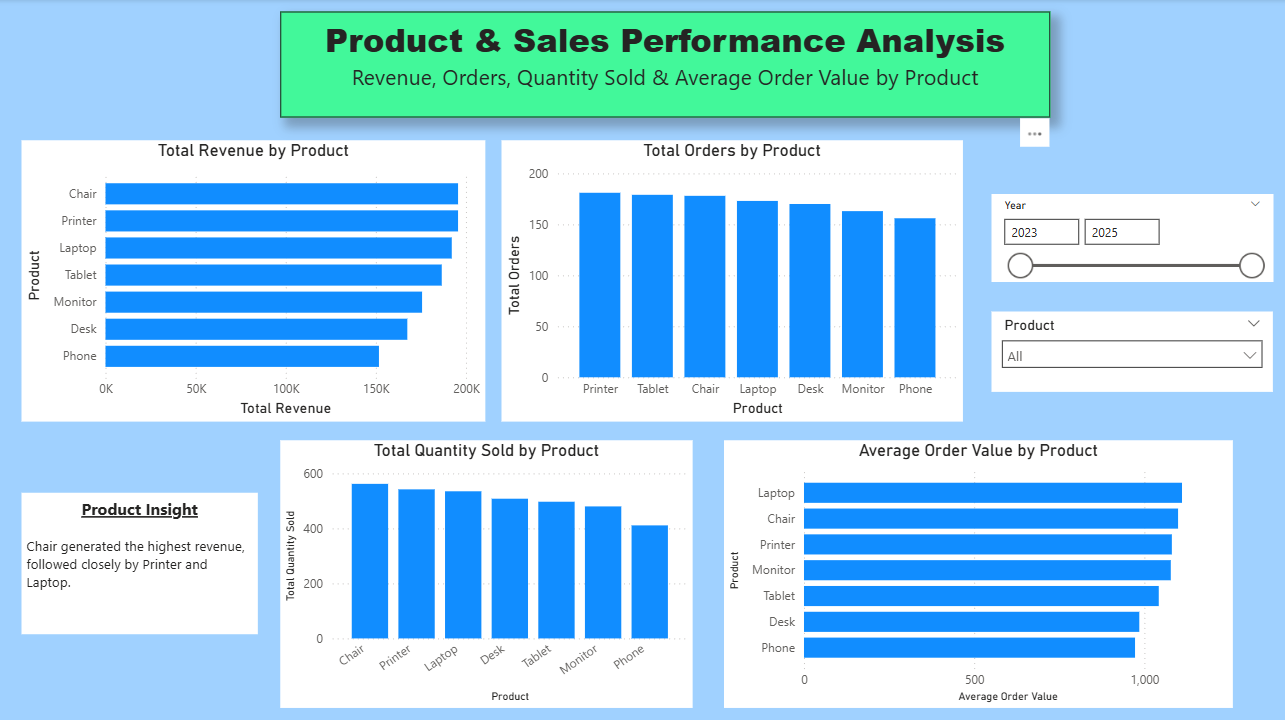

This screenshot's page, from the dashboard's own definition file:
{"tool":"powerbi","page":{"name":"Product  & Sales Analysis","canvas":[1280,720],"ordinal":1},"visuals":[{"type":"clusteredBarChart","fields":{"Category":["Orders.Product"],"Y":["Orders.Total Revenue"]},"box":[22.4,140.6,461.5,279.9],"z":0},{"type":"clusteredColumnChart","fields":{"Category":["Orders.Product"],"Y":["Orders.Total Orders"]},"box":[500.1,140.6,459,279.9],"z":1000},{"type":"clusteredBarChart","fields":{"Category":["Orders.Product"],"Y":["Orders.Average Order Value"]},"box":[721.5,439.1,506.3,266.2],"z":2000},{"type":"clusteredColumnChart","fields":{"Category":["Orders.Product"],"Y":["Orders.Total Quantity Sold"]},"box":[279.9,439.1,410.5,266.2],"z":3000},{"type":"slicer","fields":{"Values":["Orders.Year"]},"box":[987.7,194.1,279.9,87.1],"z":4000},{"type":"slicer","fields":{"Values":["Orders.Product"]},"box":[987.7,311,279.9,79.6],"z":5000},{"type":"textbox","box":[22.4,491.4,235.1,140.6],"z":6000},{"type":"textbox","box":[279.9,12.4,766.3,105.7],"z":7000}]}

Visuals, with their boxes in screenshot pixels (x1, y1, x2, y2), scaled from the page's 1280x720 canvas onto the 1285x720 screenshot:
clusteredBarChart - Orders.Product x Orders.Total Revenue: 22 141 486 420
clusteredColumnChart - Orders.Product x Orders.Total Orders: 502 141 963 420
clusteredBarChart - Orders.Product x Orders.Average Order Value: 724 439 1233 705
clusteredColumnChart - Orders.Product x Orders.Total Quantity Sold: 281 439 693 705
slicer - Orders.Year: 992 194 1273 281
slicer - Orders.Product: 992 311 1273 391
textbox: 22 491 259 632
textbox: 281 12 1050 118
